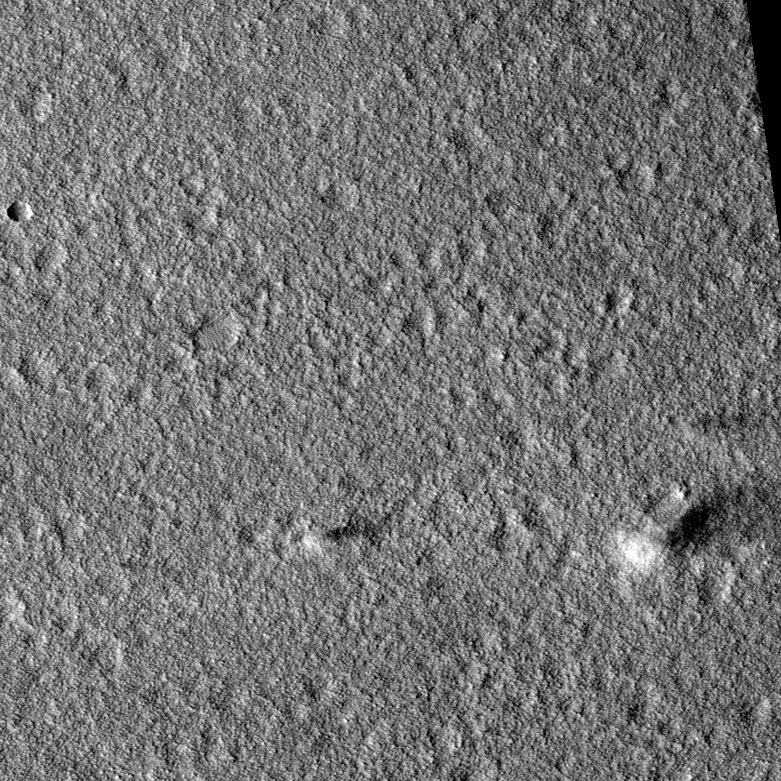dust_devil: (612, 479, 771, 579), (299, 516, 384, 554)
